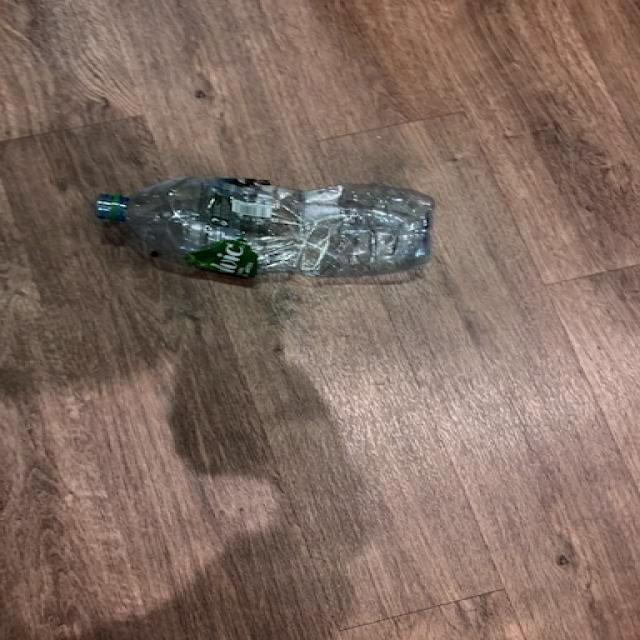bottle: (95, 176, 436, 278)
